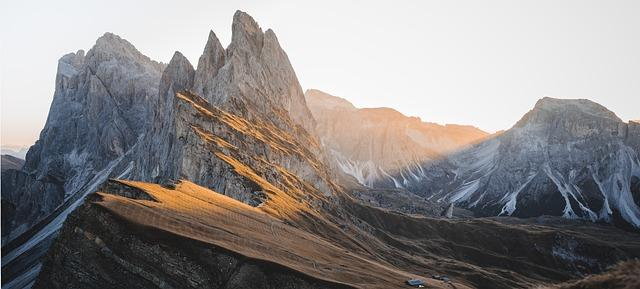Non_Gorille: (55, 26, 411, 268)
